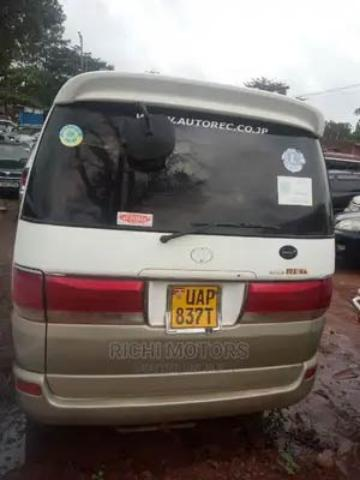van: (6, 69, 336, 430)
